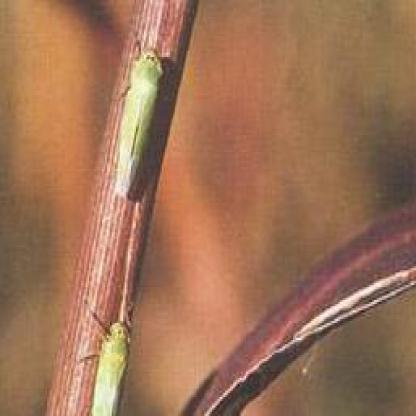Green-Leafhopper: (114, 38, 166, 208)
